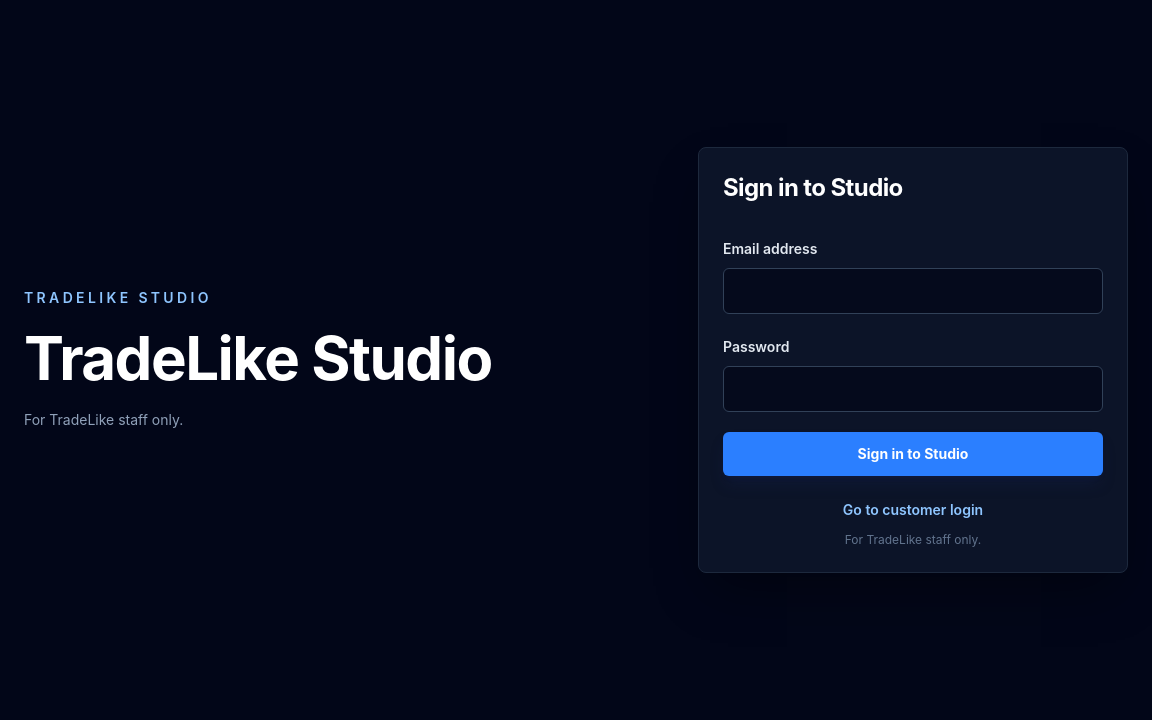
staff access › rejects a customer user response from staff login
The image size is (1152, 720).
Type "customer@example.com" into the field labelled "Email address" at coordinates (913, 291), box left=723, top=268, right=1103, bottom=314
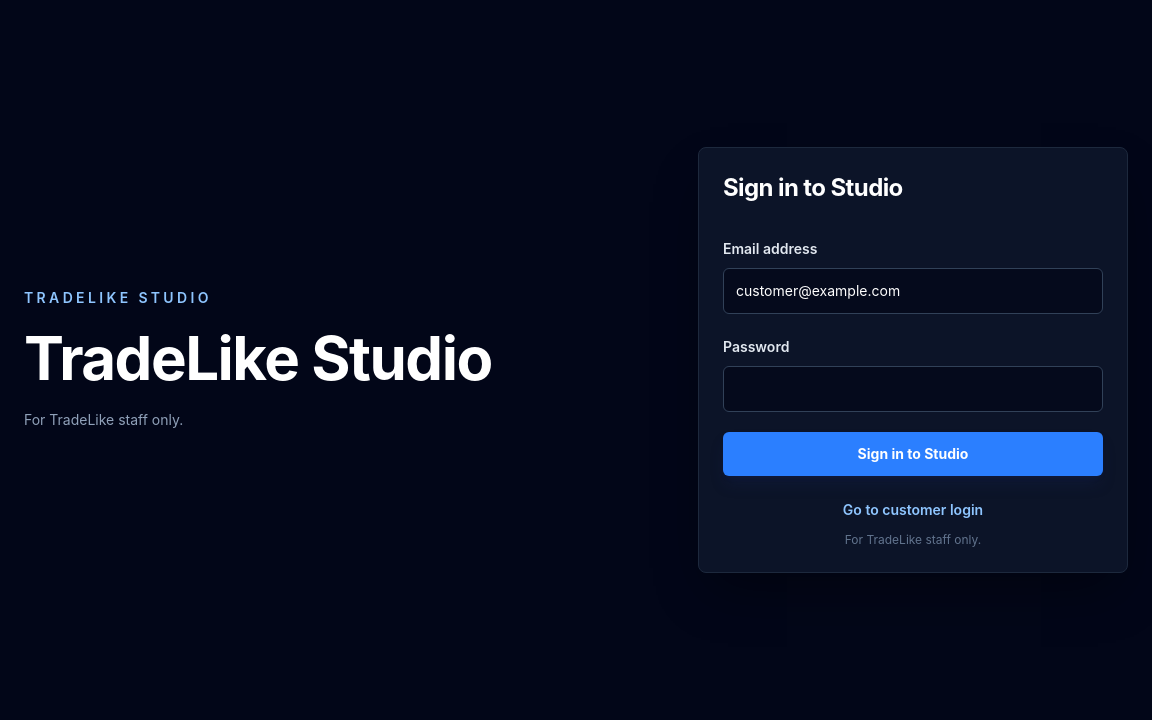
Type "Password123!" into the password field labelled "Password" at coordinates (913, 389), box left=723, top=366, right=1103, bottom=412
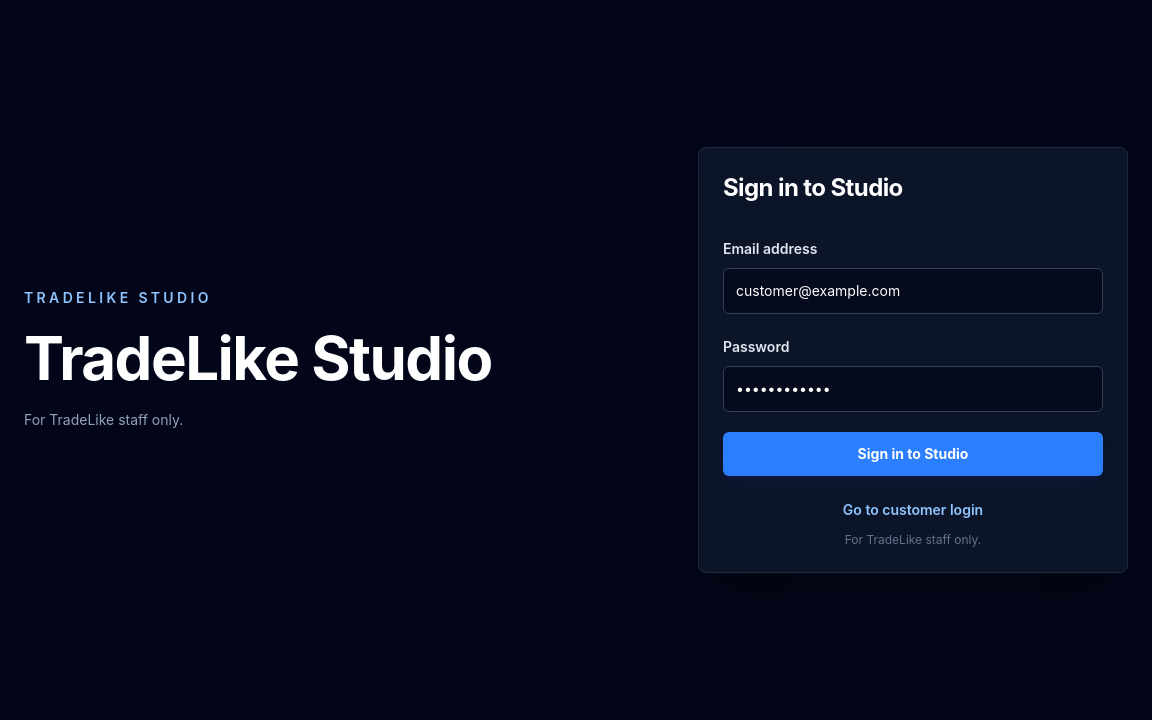
Click the button "Sign in to Studio" at coordinates (913, 454), box left=723, top=432, right=1103, bottom=476
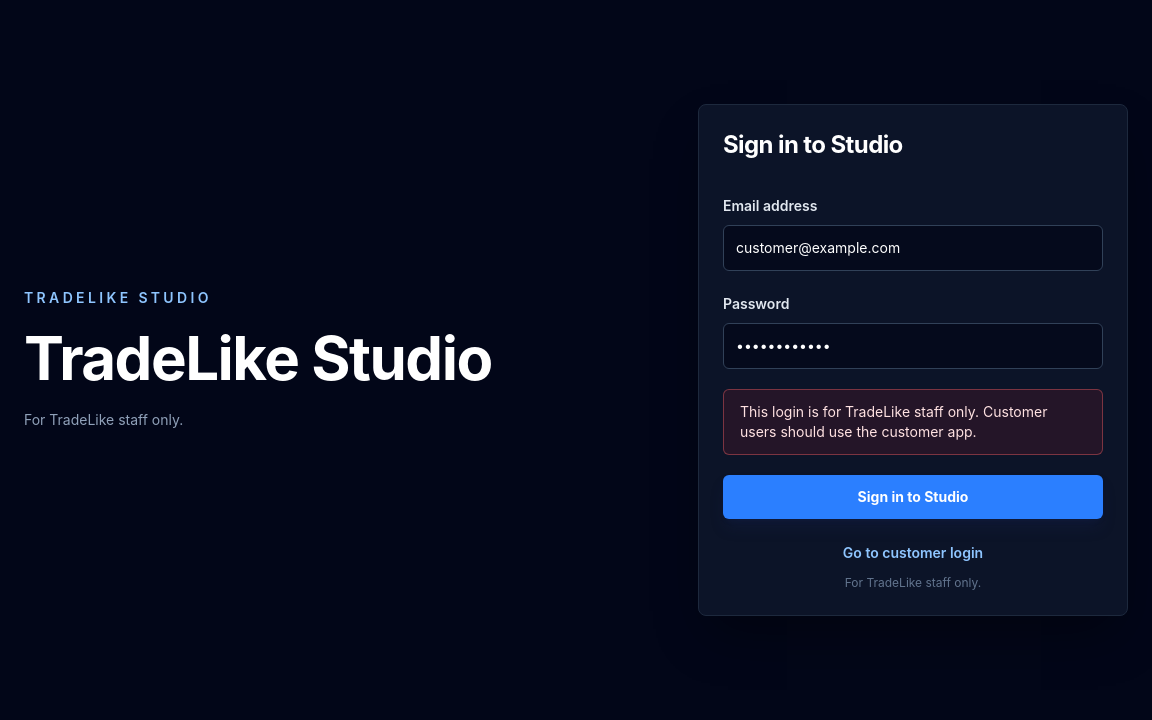
Check: the message shows "This login is for TradeLike staff only. Customer users should use the customer app.", box left=740, top=403, right=1047, bottom=440
